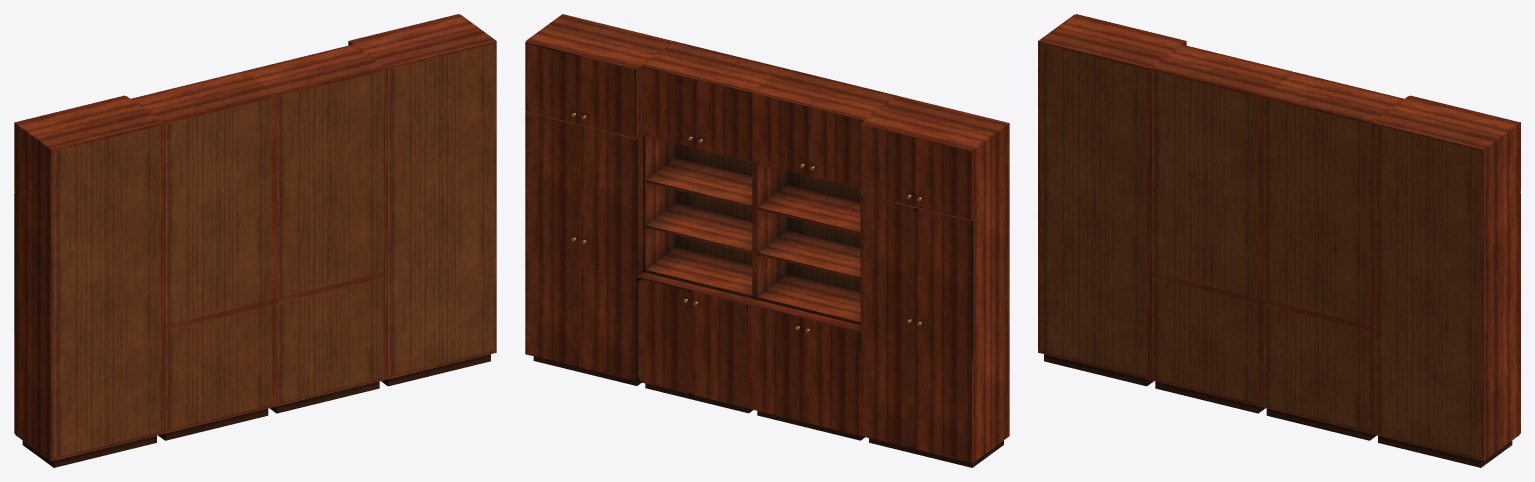
Rendered from stenka_red_web.glb.
3 views of the same model, side by side, from view 1: azimuth 30°, elevation 25°; view 2: azimuth 150°, elevation 25°; view 3: azimuth 330°, elevation 25° (orthographic).
Visible parts, largest first — view 1: StenkaRed_Body; view 2: StenkaRed_Body, Door_4L0_L_Mesh, Door_4L0_R_Mesh, Door_1L0_R_Mesh, Door_1L0_L_Mesh, Door_2L0_R_Mesh, Door_3L0_L_Mesh, Door_3L0_R_Mesh, Door_2L0_L_Mesh, Door_2U1_R_Mesh, Door_4L1_R_Mesh, Door_1L1_R_Mesh (+5 smaller); view 3: StenkaRed_Body.
Part boxes in pixels (<box>): StenkaRed_Body: <box>15,14,496,467</box>; StenkaRed_Body: <box>526,14,1009,467</box>; Door_4L0_L_Mesh: <box>860,193,916,449</box>; Door_4L0_R_Mesh: <box>916,207,972,462</box>; Door_1L0_R_Mesh: <box>581,125,637,380</box>; Door_1L0_L_Mesh: <box>525,111,581,367</box>; Door_2L0_R_Mesh: <box>692,290,749,408</box>; Door_3L0_L_Mesh: <box>748,303,804,421</box>; Door_3L0_R_Mesh: <box>804,317,860,435</box>; Door_2L0_L_Mesh: <box>637,276,692,394</box>; Door_2U1_R_Mesh: <box>697,78,754,162</box>; Door_4L1_R_Mesh: <box>916,136,972,220</box>; Door_1L1_R_Mesh: <box>581,54,637,138</box>; StenkaRed_Body: <box>1038,14,1519,467</box>.
Bounding box in the file's own units: 3.2 × 2.2 × 0.4979.
2 materials, 2 textured.
